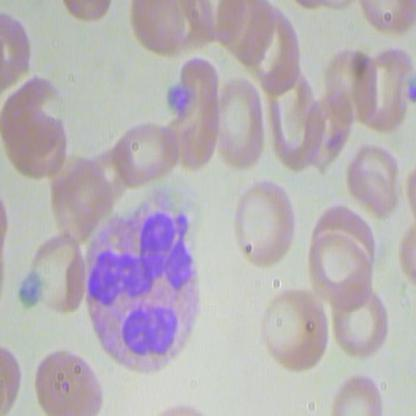RBC: (229, 180, 296, 270), (308, 216, 374, 307), (263, 287, 327, 372), (34, 342, 104, 416), (357, 42, 415, 130), (343, 135, 402, 220), (331, 274, 389, 360), (114, 114, 180, 184), (216, 78, 266, 167)
WBC: (78, 186, 205, 378)
